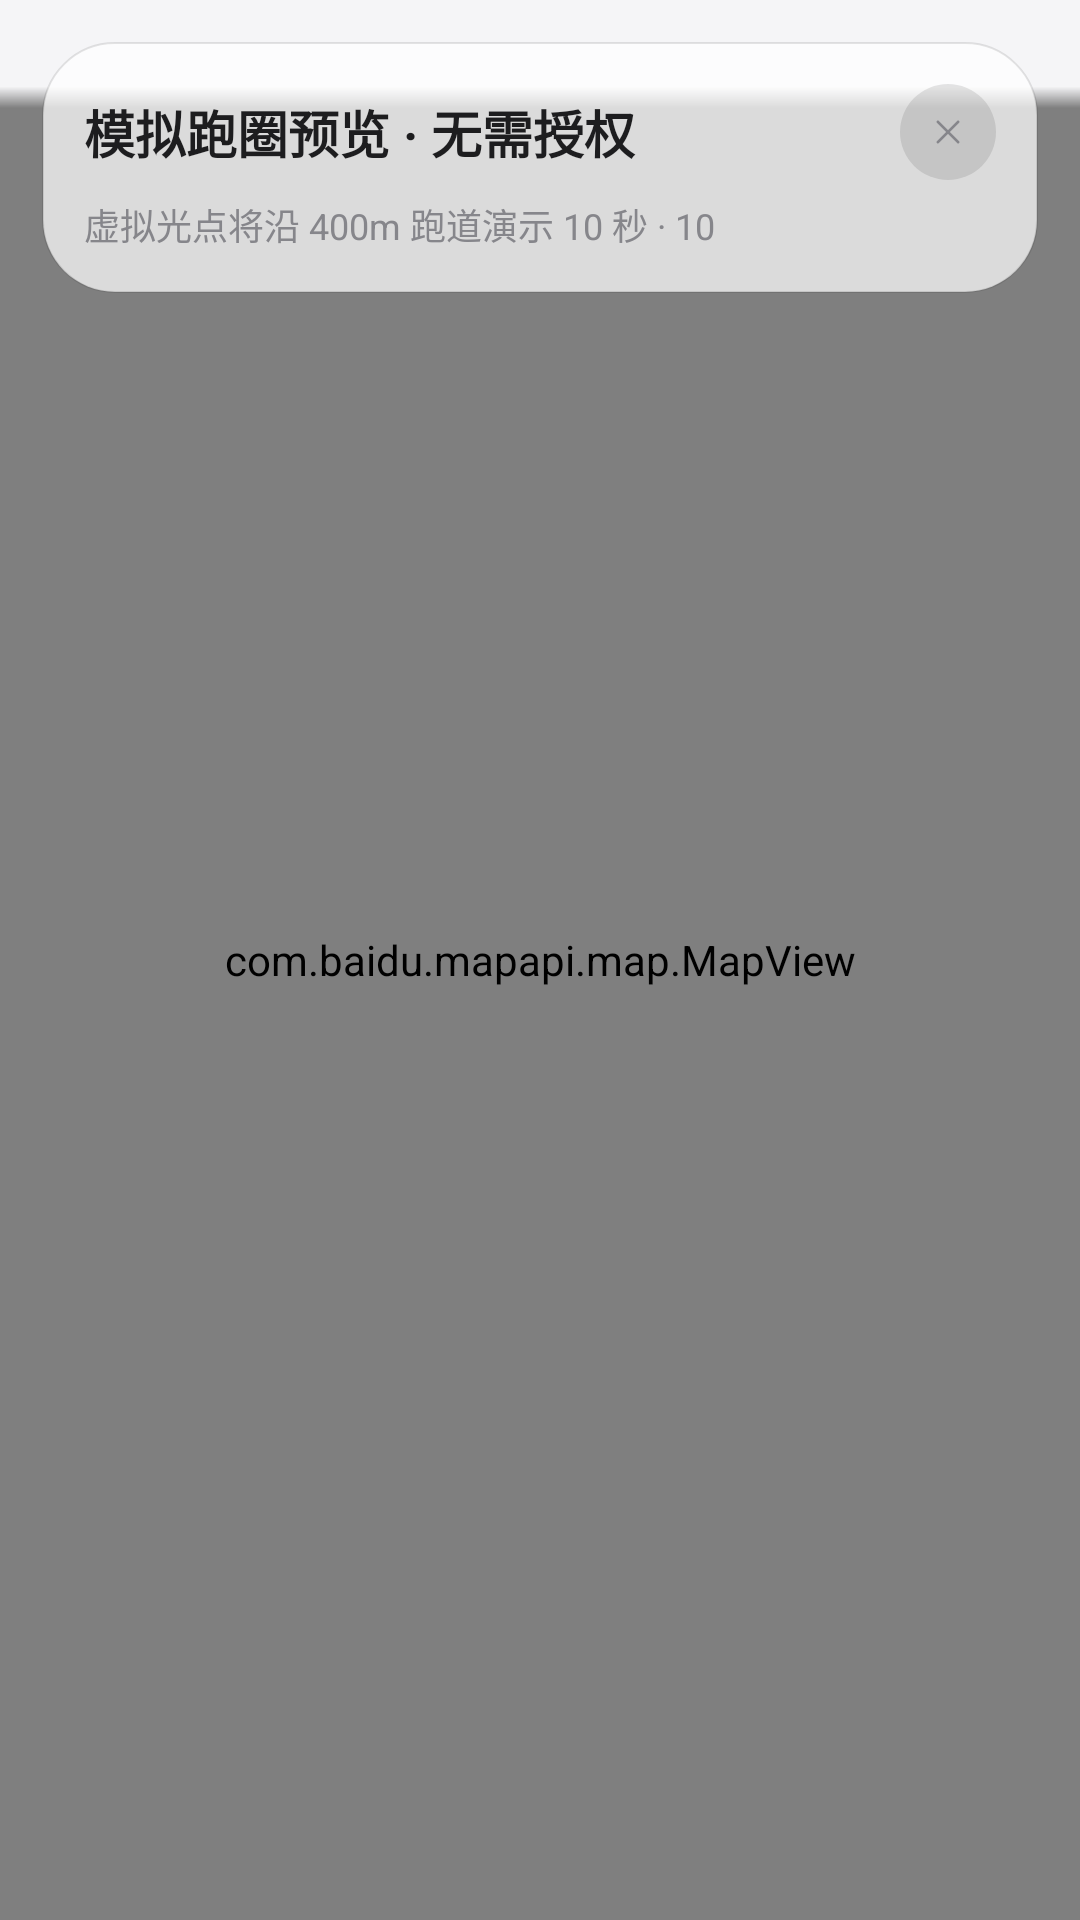

Screen size 1080*1920. Icon name, then its center in pixels as (x,y):
关闭: (948,132)
